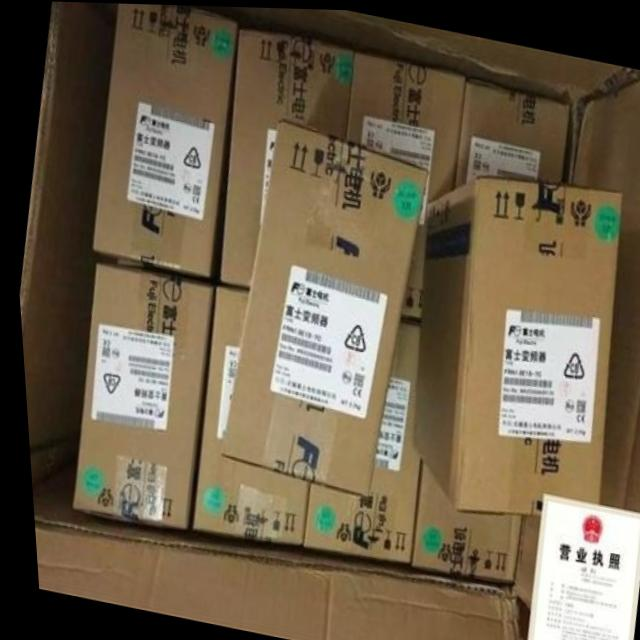box: (214, 118, 426, 496), (407, 172, 620, 511), (89, 3, 238, 277), (66, 261, 209, 529), (215, 26, 353, 286), (345, 49, 465, 318), (184, 280, 304, 543), (294, 314, 416, 561), (402, 454, 516, 581), (451, 72, 568, 185)
